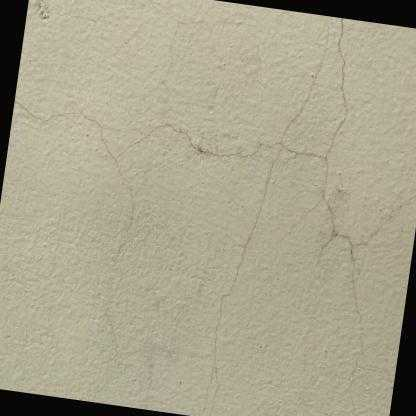crack: (14, 19, 416, 414)
